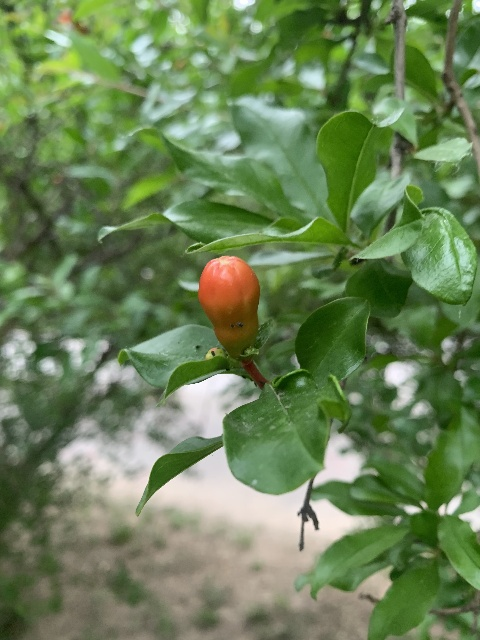bud: (197, 254, 260, 355)
